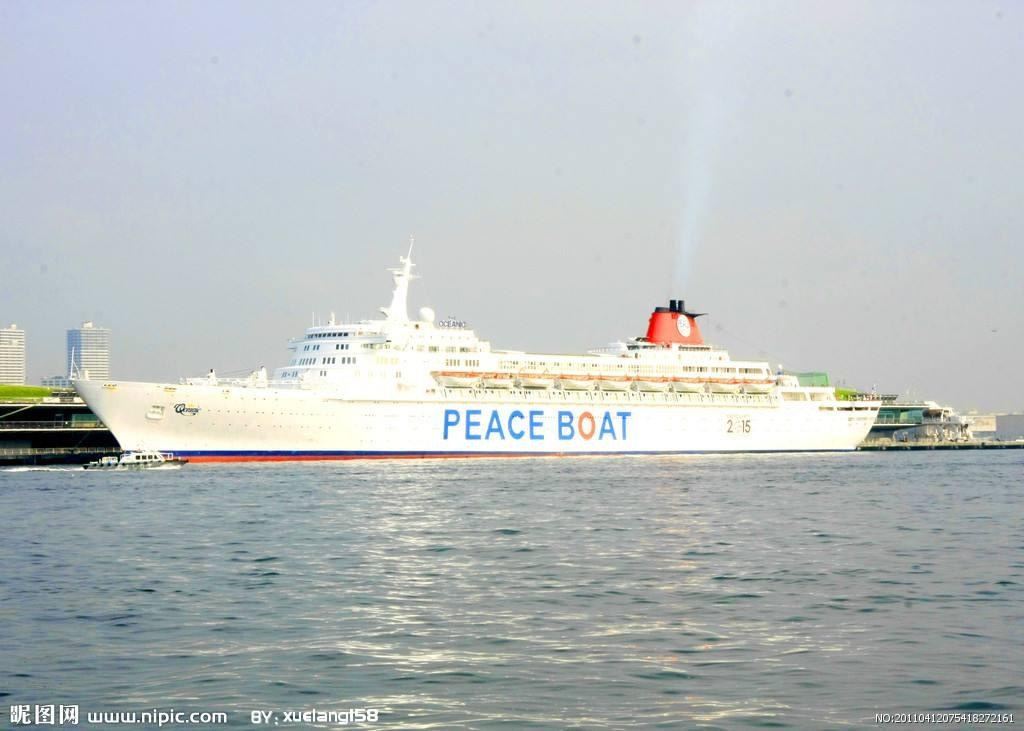warship: (64, 233, 942, 451)
